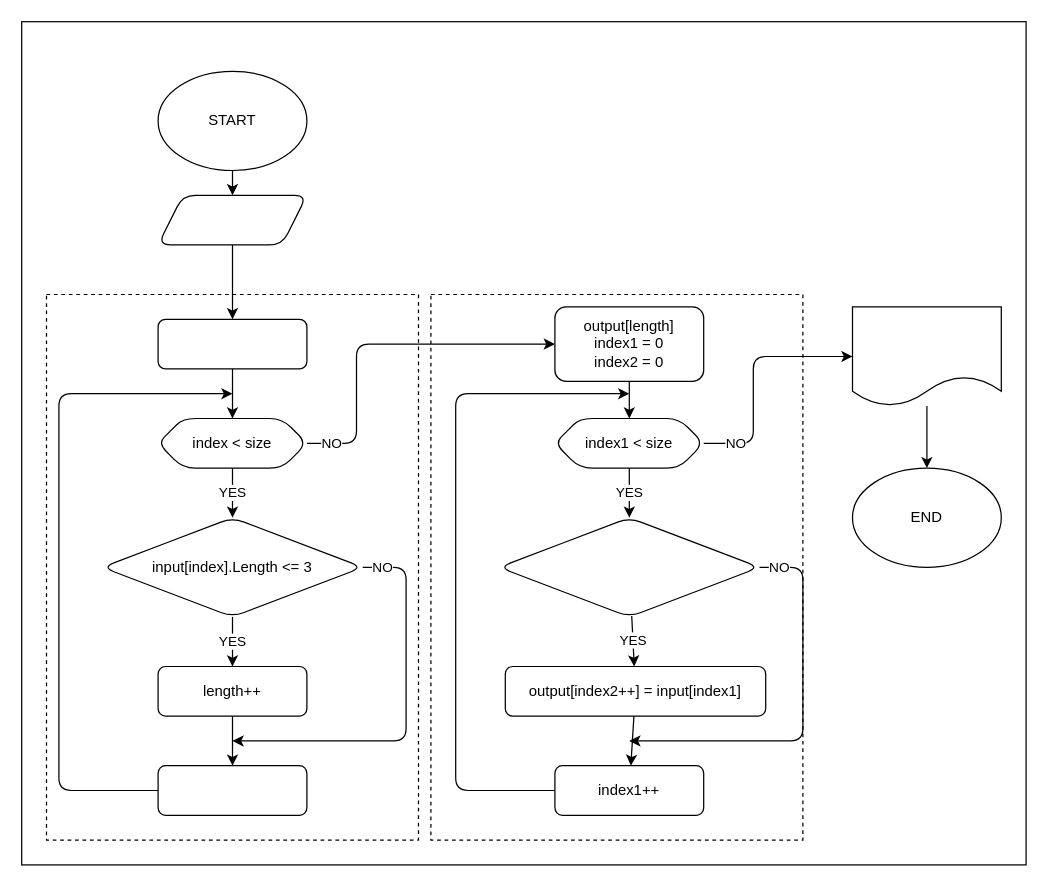
Some shapes in this 1048 by 887 pixel diagram are drawn without their labels. Each missing label, with the box of its shape:
index = 0 length = 0: (157, 318, 307, 369)
index++: (157, 764, 307, 815)
input -> output: (851, 306, 1001, 406)
input[index1].Length <= 3: (498, 516, 760, 617)
size input[size]: (157, 194, 307, 245)
